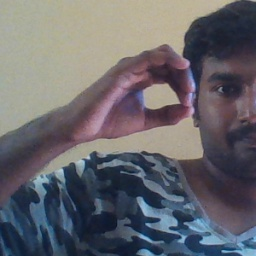O: (70, 42, 201, 147)
